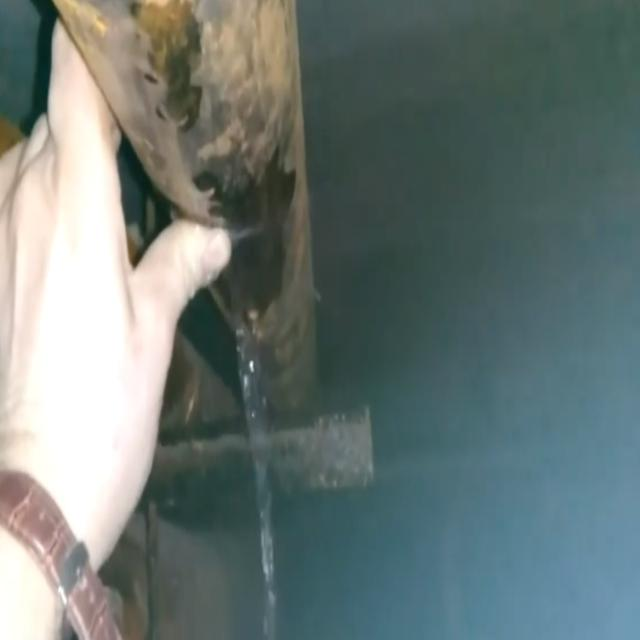leak: (235, 324, 276, 638)
